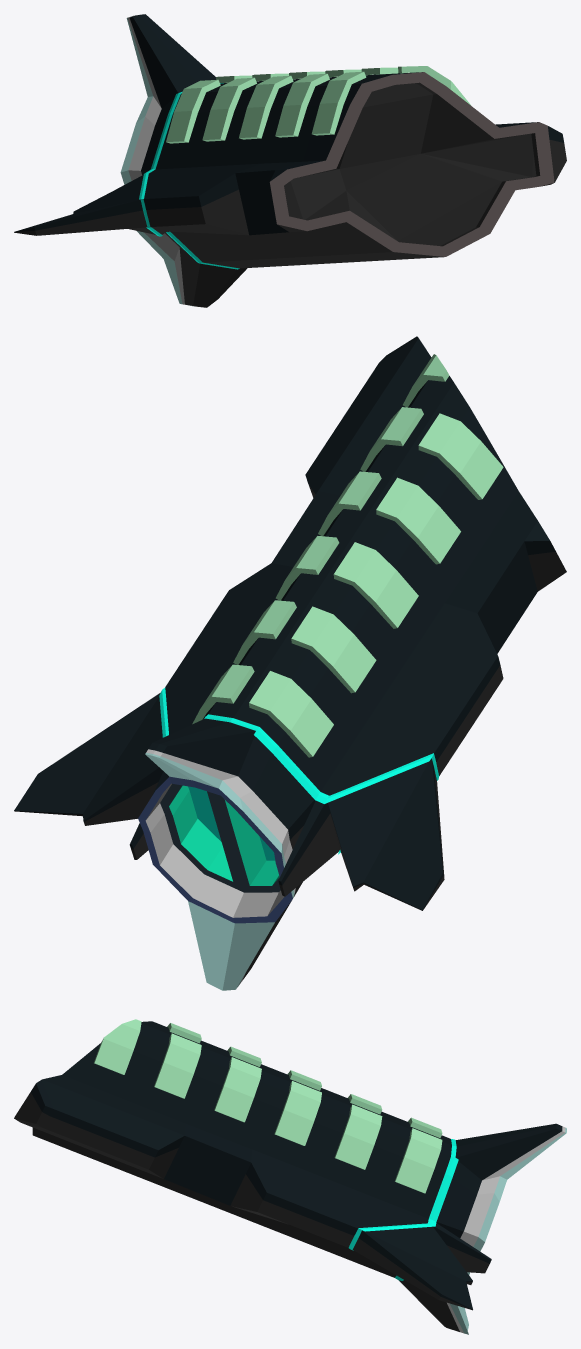
File: Freighter_Body_01.fbx
3 renders of one model, top to bottom at view 1: azimuth 30°, elevation 25°; view 2: azimuth 150°, elevation 25°; view 3: azimuth 270°, elevation 25°, orthographic. The views are drawn at different scales.
Parts seen in each view (by area): view 1: CruiserBody_01_LOD0; view 2: CruiserBody_01_LOD0; view 3: CruiserBody_01_LOD0.
Boxes of the visible parts, x1,y1,x2,y2 form: CruiserBody_01_LOD0: [14, 14, 566, 307]; CruiserBody_01_LOD0: [14, 336, 566, 990]; CruiserBody_01_LOD0: [14, 1019, 566, 1334].
Size of what is drawn, in the model's own units: 15011 by 15821 by 24779.
1 material, 1 textured.
